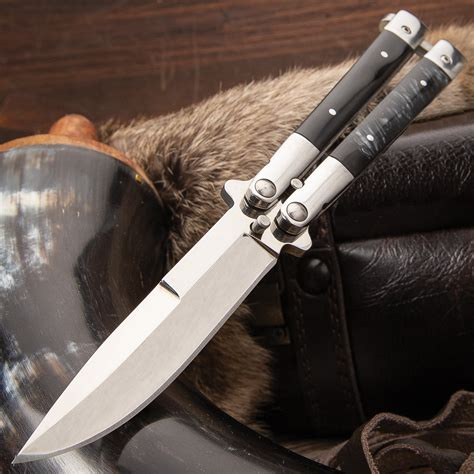knife: (9, 10, 466, 465)
